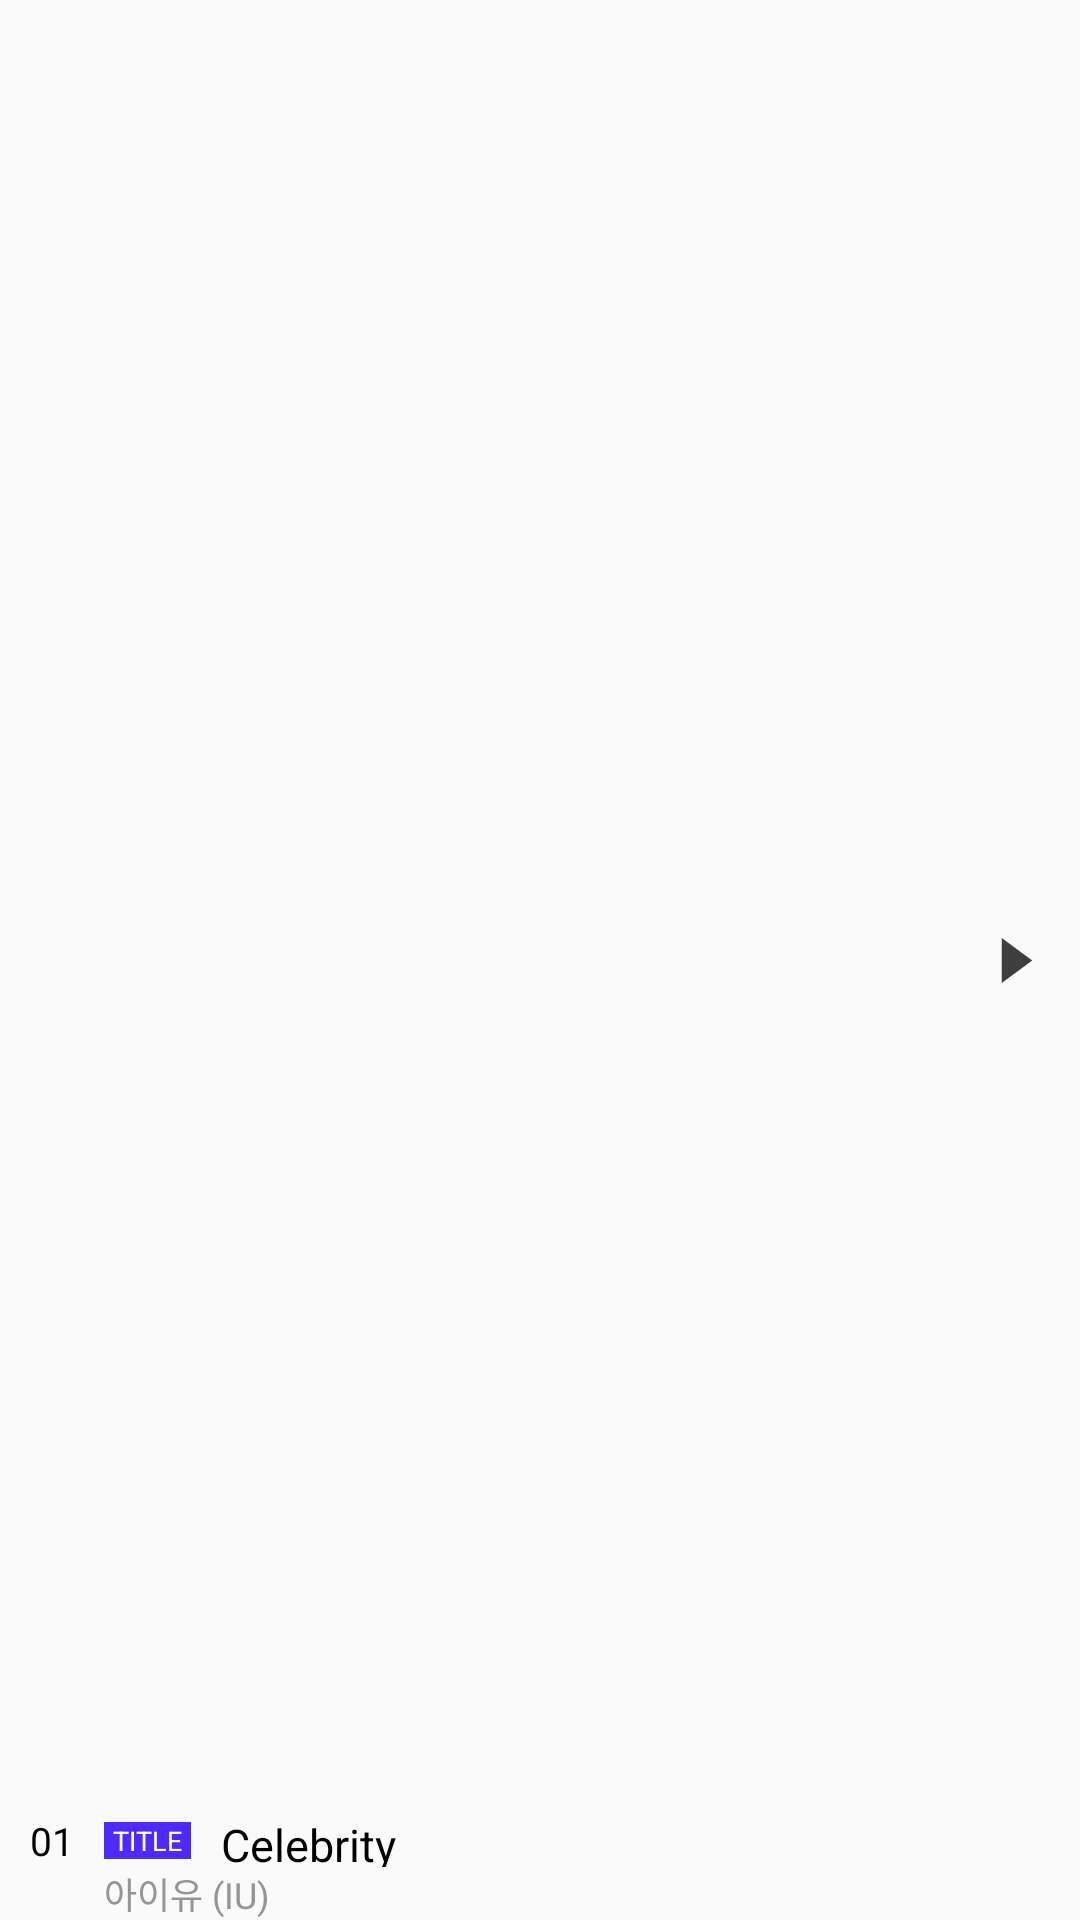

Where icons sit on this 1080px×1920px app screen, as (x1, y1, x2, y2):
play: (1001, 938, 1032, 983)
